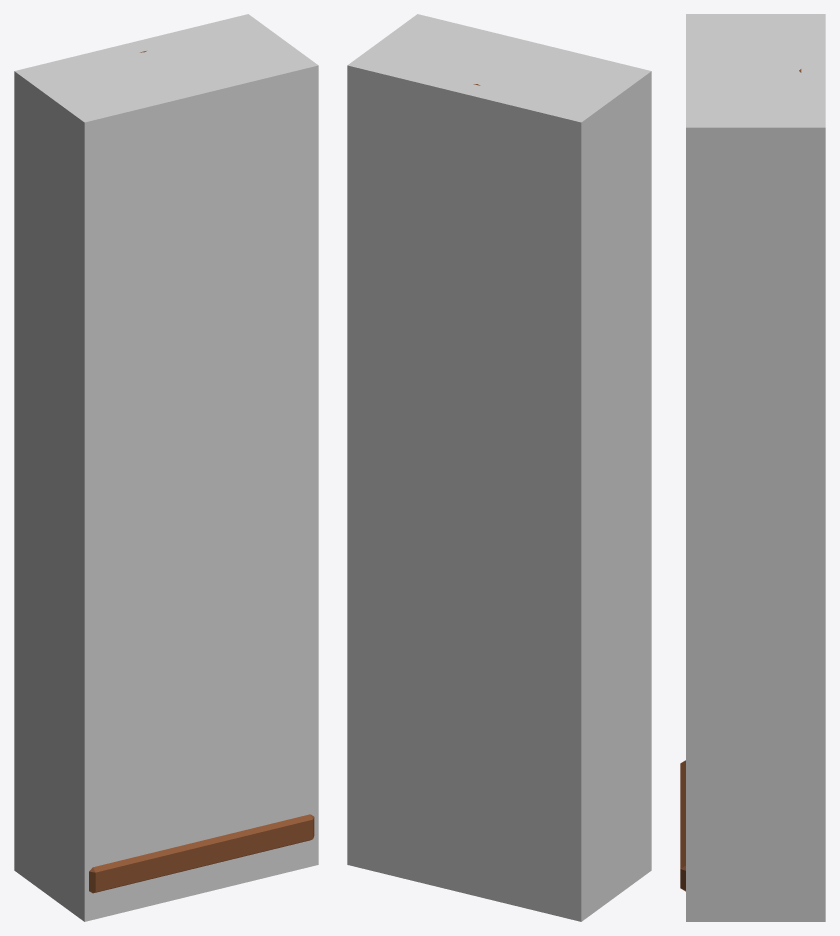
The model's file is broom.glb.
3 views of the same model, side by side, from view 1: azimuth 30°, elevation 25°; view 2: azimuth 150°, elevation 25°; view 3: azimuth 270°, elevation 25° (orthographic).
Parts seen in each view (by area): view 1: Broom_col, Broom; view 2: Broom_col; view 3: Broom_col, Broom.
Boxes of the visible parts, x1=… form: Broom_col: x1=14, y1=14, x2=318, y2=921; Broom: x1=89, y1=51, x2=314, y2=893; Broom_col: x1=347, y1=14, x2=651, y2=921; Broom_col: x1=686, y1=14, x2=825, y2=921; Broom: x1=680, y1=69, x2=801, y2=891.
Bounding box in the file's own units: 1.63 × 5.33 × 0.882.
